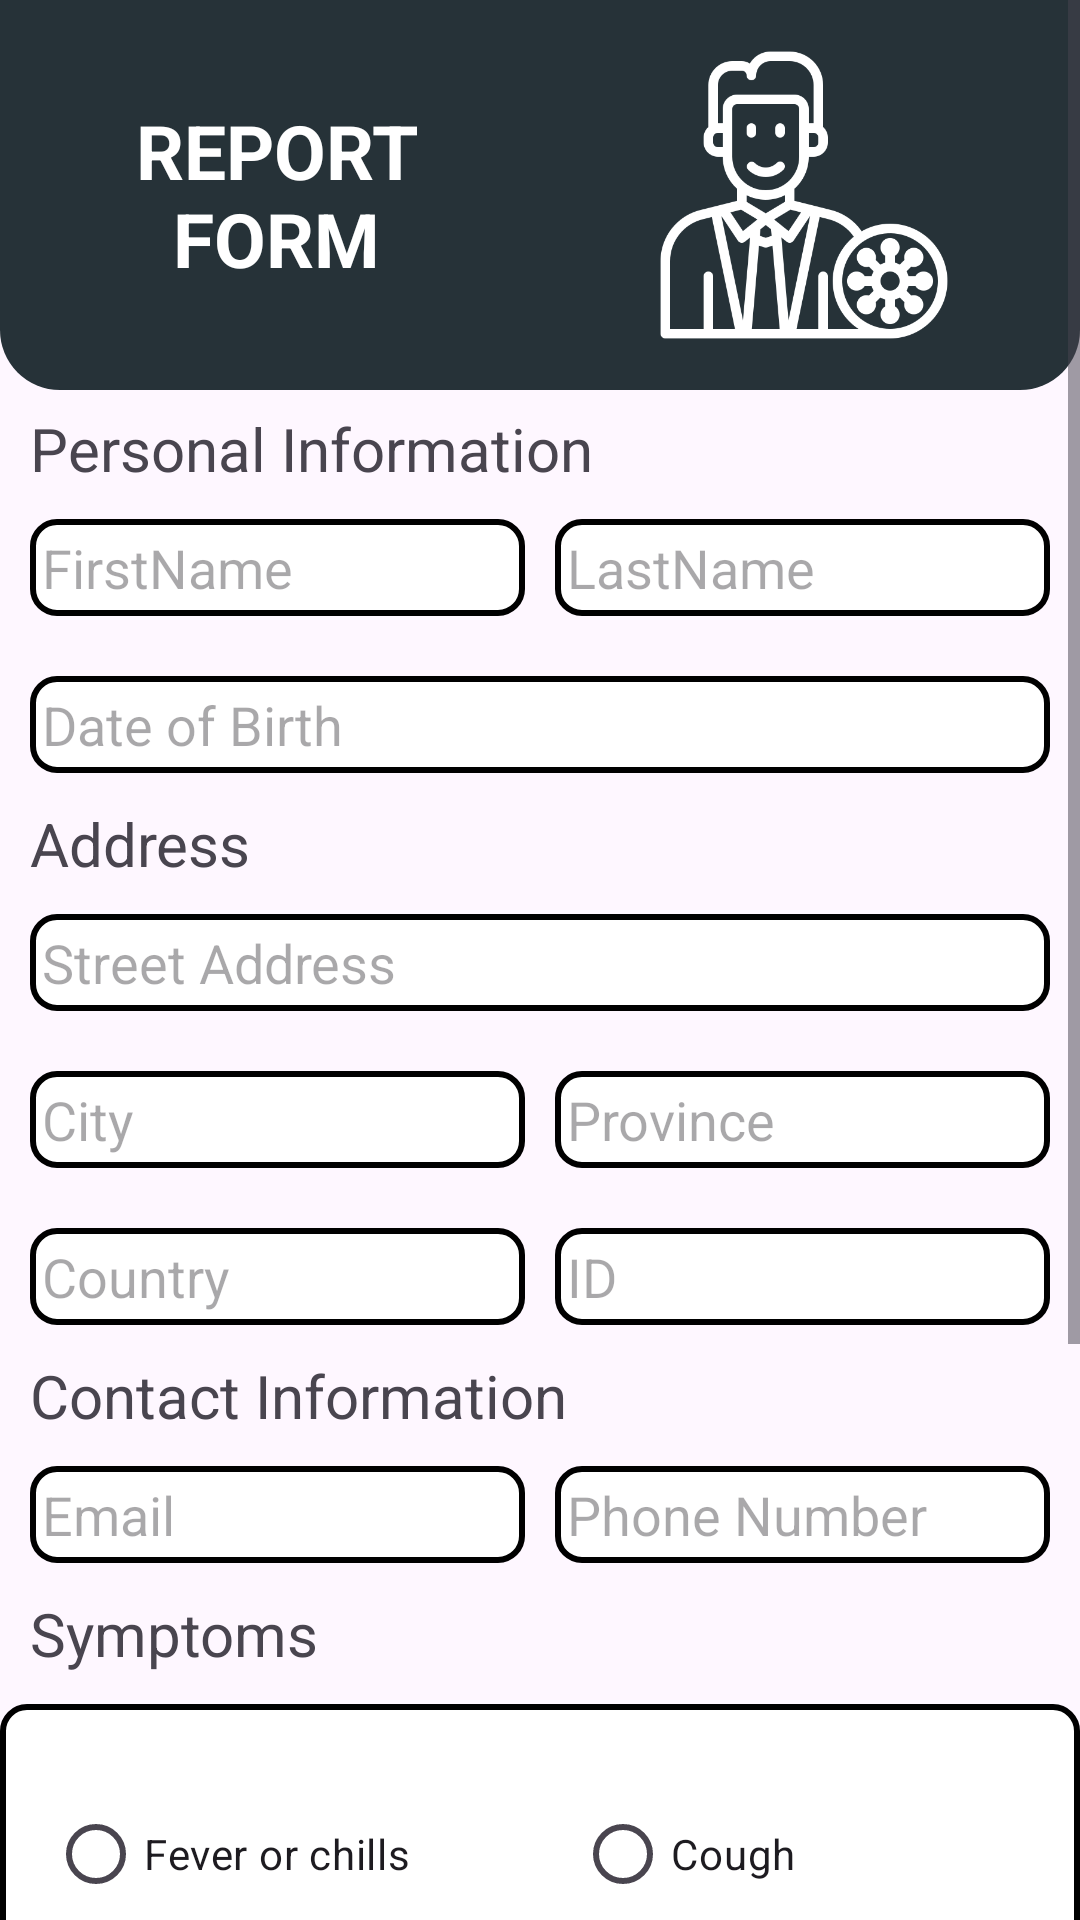

Where to tap for icons on this 1080x1920 app screen, as [x,y]:
doctor: [804,195]
